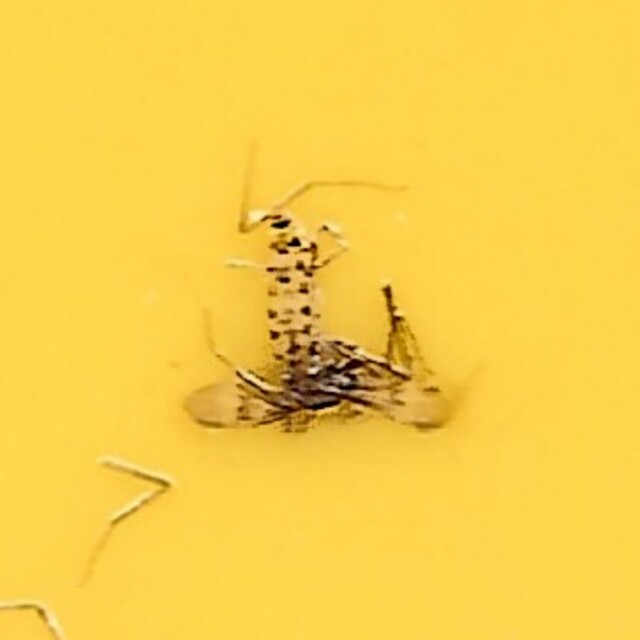Nematocera: (176, 194, 464, 446)
